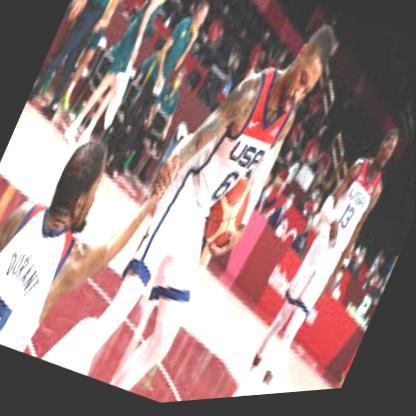basketball: (193, 169, 260, 263)
